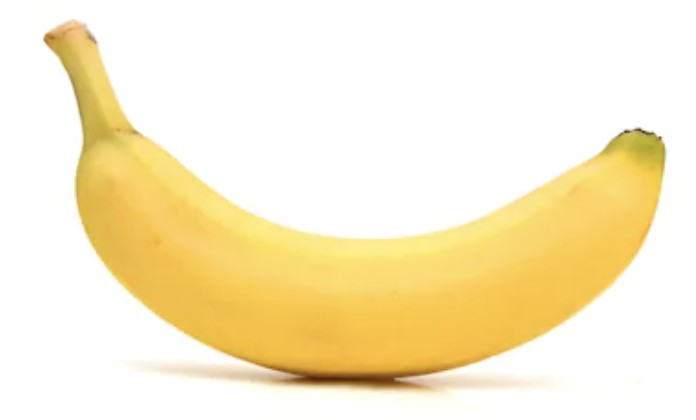fresh_banana: (43, 18, 665, 379)
